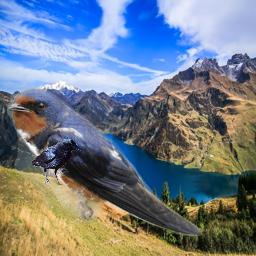Crow: (32, 139, 81, 186)
Swallow: (6, 87, 202, 236)
